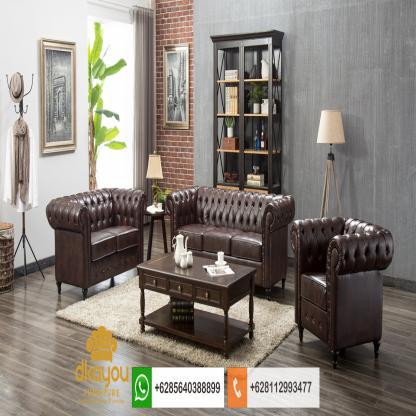lampu: (312, 110, 349, 217)
meja: (139, 249, 259, 356)
sova: (293, 203, 395, 364), (47, 185, 148, 284)
tanaman: (87, 21, 127, 187)
